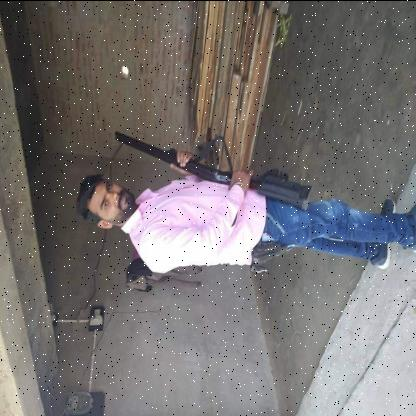rifle: (113, 127, 315, 212)
